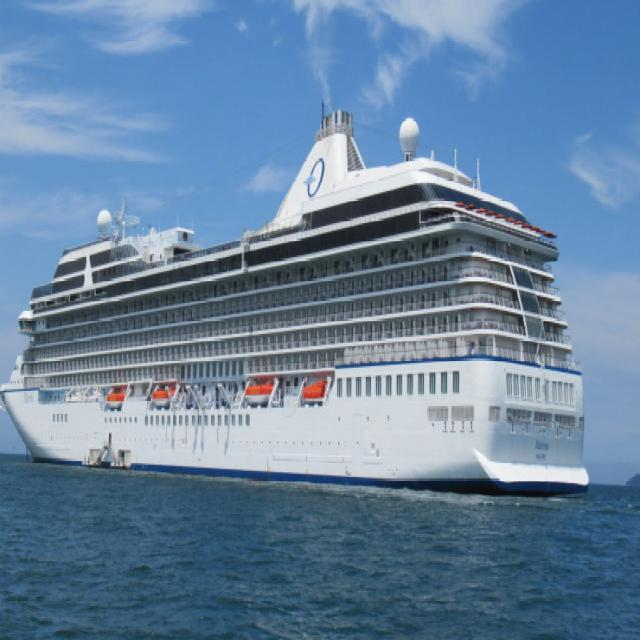cruises: (1, 103, 596, 503)
